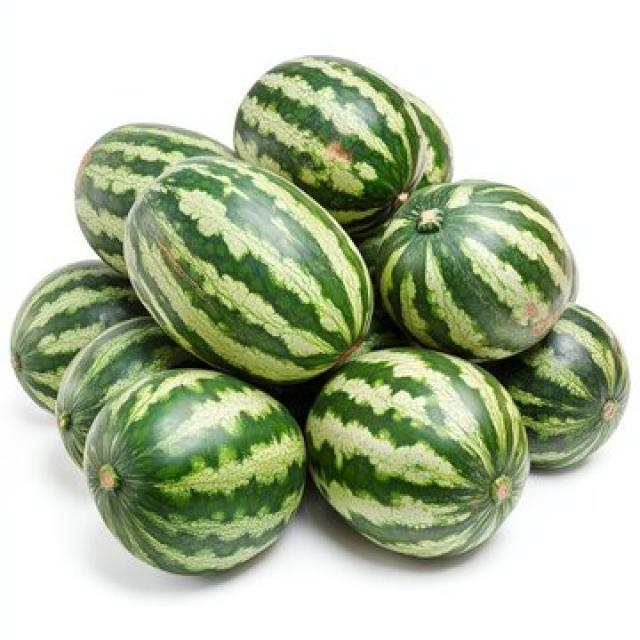Watermelon: (87, 359, 305, 574), (135, 159, 363, 363), (323, 352, 531, 560), (398, 177, 574, 343), (235, 57, 415, 182), (63, 100, 195, 254), (525, 320, 636, 459), (9, 266, 117, 386)
